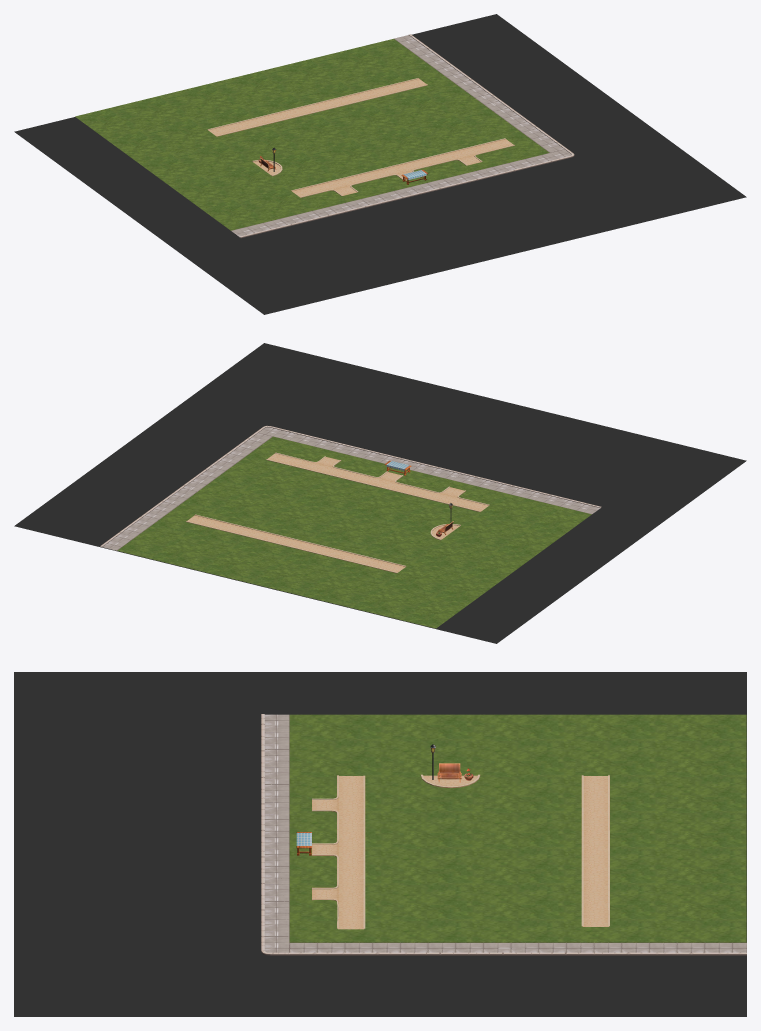
3 views of the same model, one above another, from view 1: azimuth 30°, elevation 25°; view 2: azimuth 150°, elevation 25°; view 3: azimuth 270°, elevation 25° (orthographic). The views are drawn at different scales.
Parts seen in each view (by area): view 1: Plane003, Plane001, SM_小路1, SM_小路005, SM_小路006; view 2: Plane003, Plane001, SM_小路1, SM_小路005, SM_小路006; view 3: Plane003, Plane001, SM_小路1, SM_小路005, SM_小路006, SM_ChangJingYuanSu.
Part boxes in pixels (box(x1,y1,x2,y2)): Plane003: box(14, 14, 746, 314); Plane001: box(75, 38, 549, 230); SM_小路1: box(231, 34, 574, 238); SM_小路005: box(291, 138, 514, 197); SM_小路006: box(207, 78, 427, 136); Plane003: box(14, 343, 746, 643); Plane001: box(117, 436, 591, 628); SM_小路1: box(100, 425, 601, 550); SM_小路005: box(266, 452, 489, 511); SM_小路006: box(186, 514, 406, 573); Plane003: box(14, 672, 746, 1016); Plane001: box(289, 714, 746, 942); SM_小路1: box(261, 714, 746, 955); SM_小路005: box(312, 775, 365, 929); SM_小路006: box(581, 775, 609, 926); SM_ChangJingYuanSu: box(430, 744, 473, 782).
Size of the model in its own units: 83.5 by 4.2 by 74.99.
6 materials, 5 textured.
